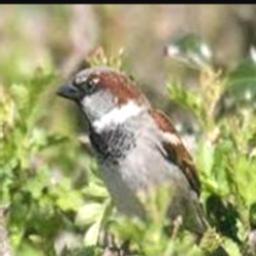Sparrow: (54, 66, 212, 238)
